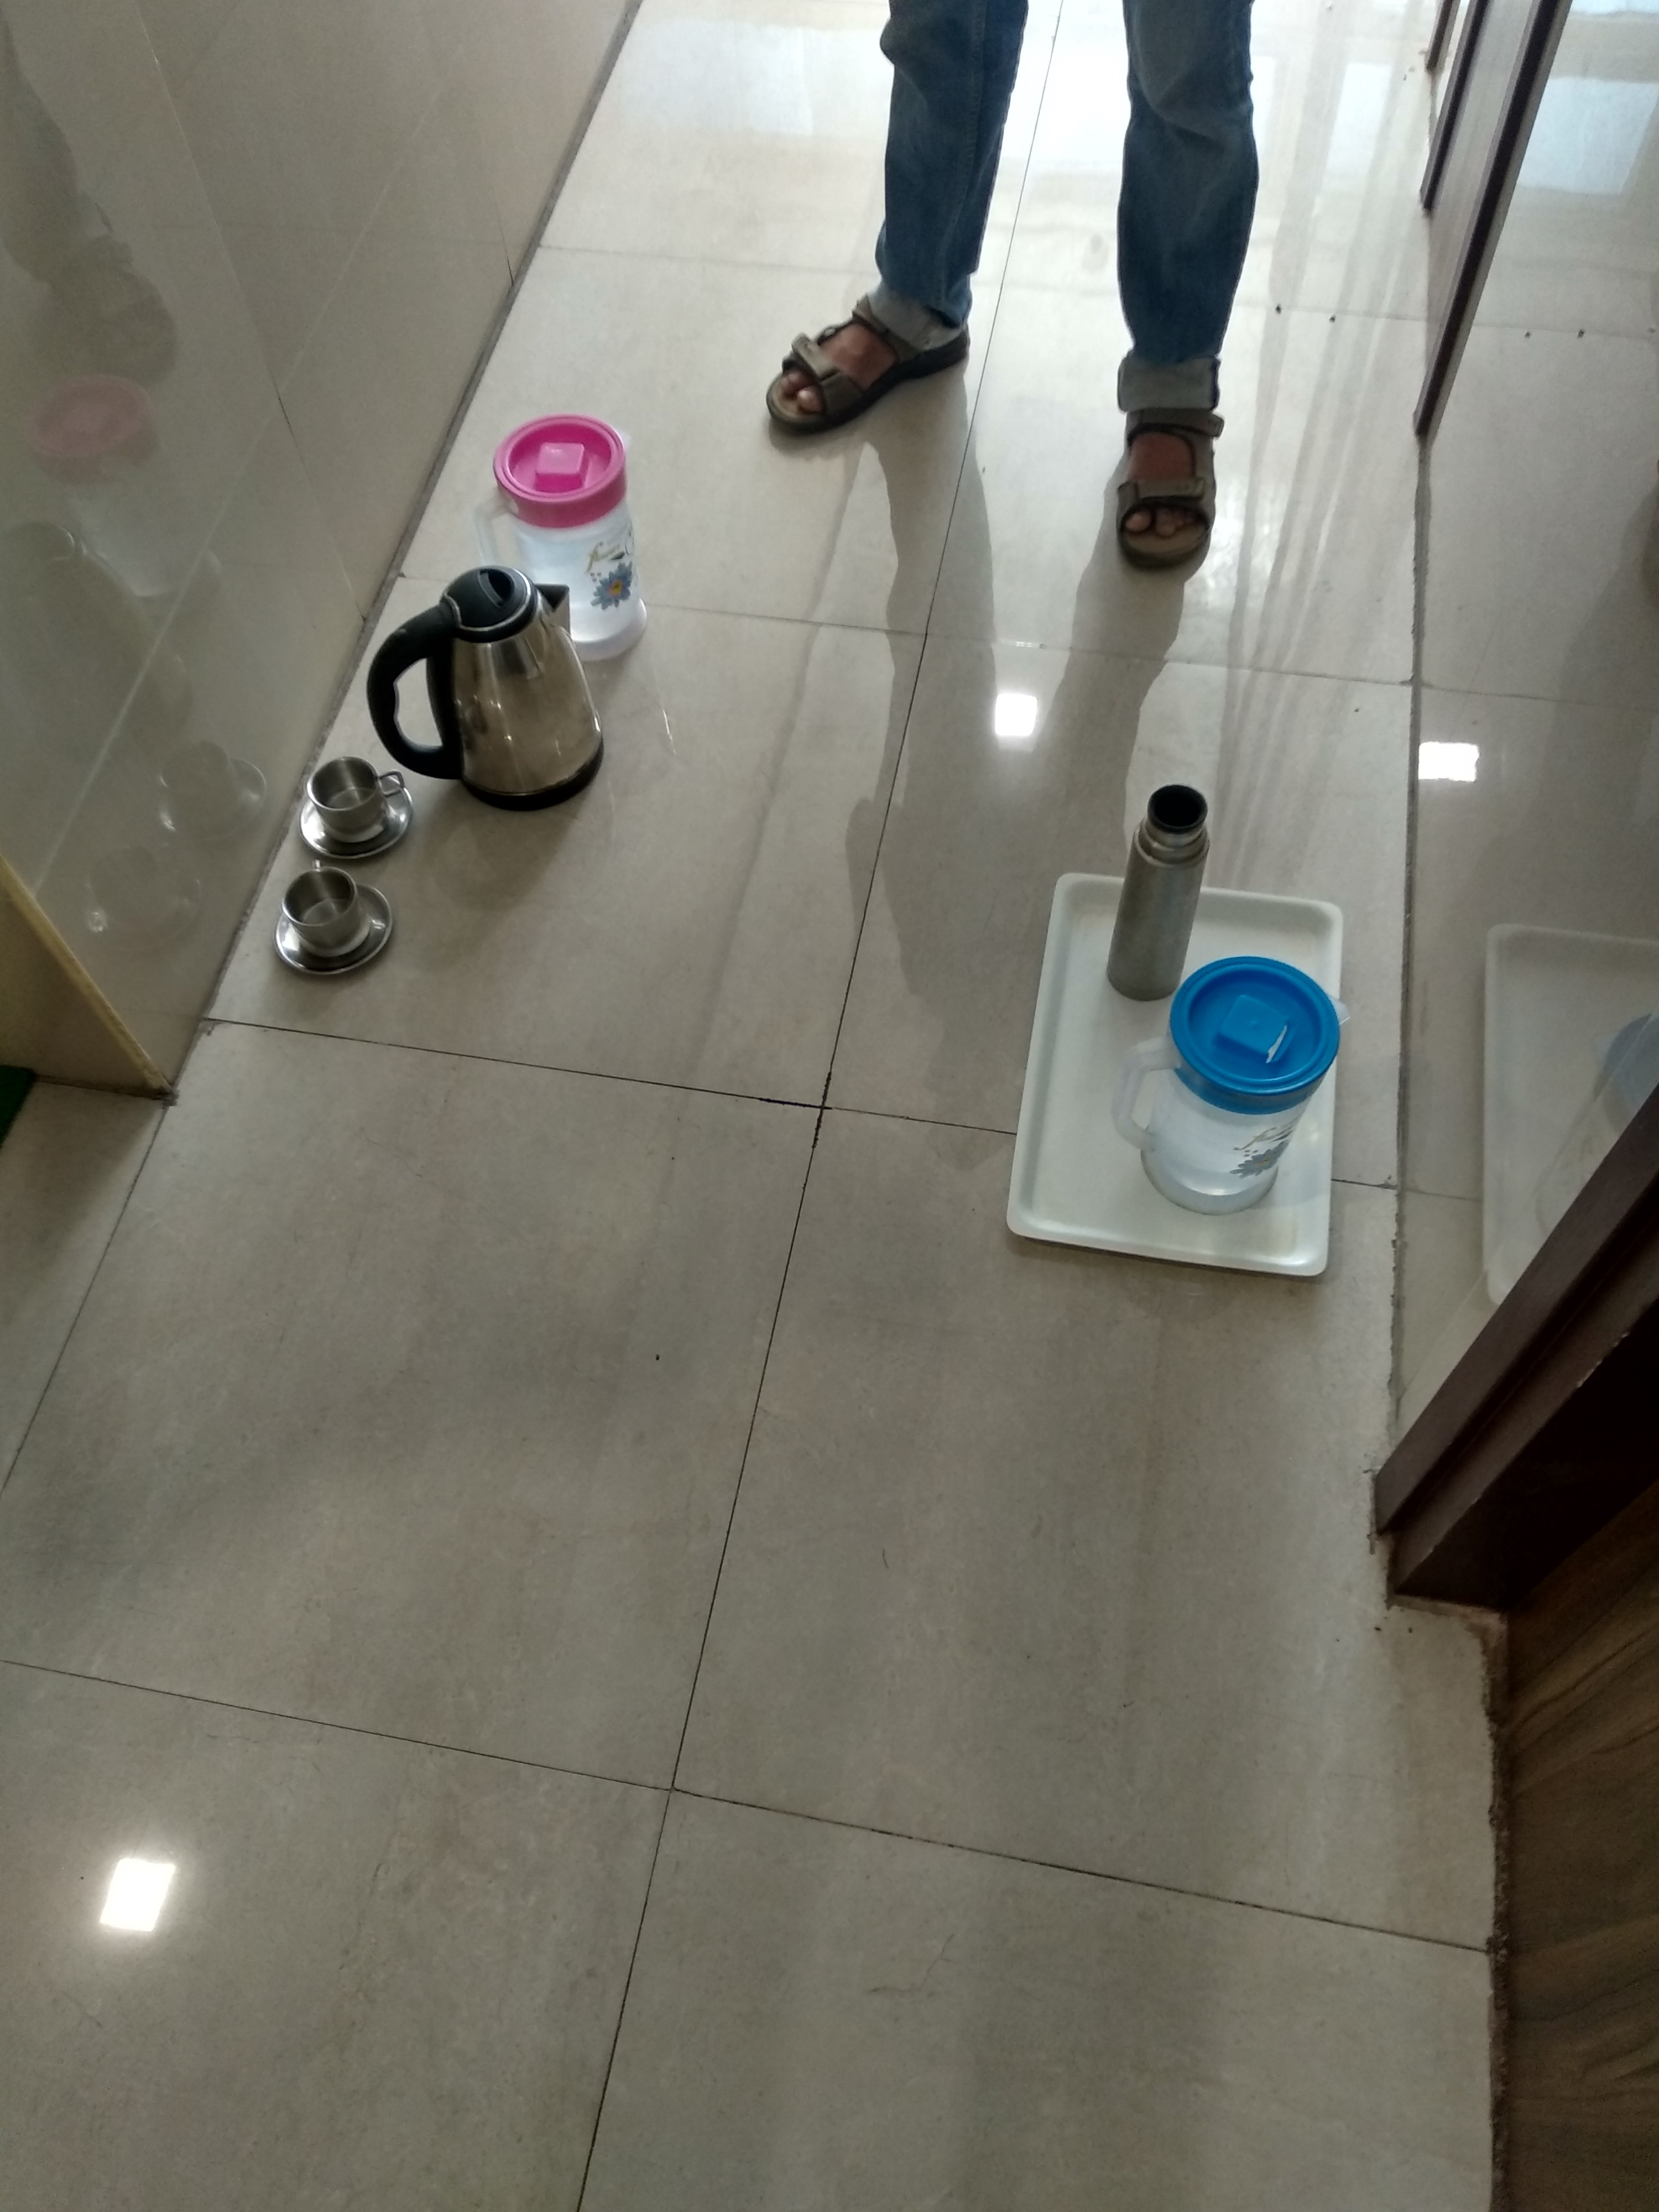CUP: (253, 859, 396, 981), (291, 745, 413, 855)
FLASK: (1101, 756, 1223, 1008)
JUG: (362, 549, 615, 826), (1124, 941, 1358, 1237), (460, 390, 650, 573)
